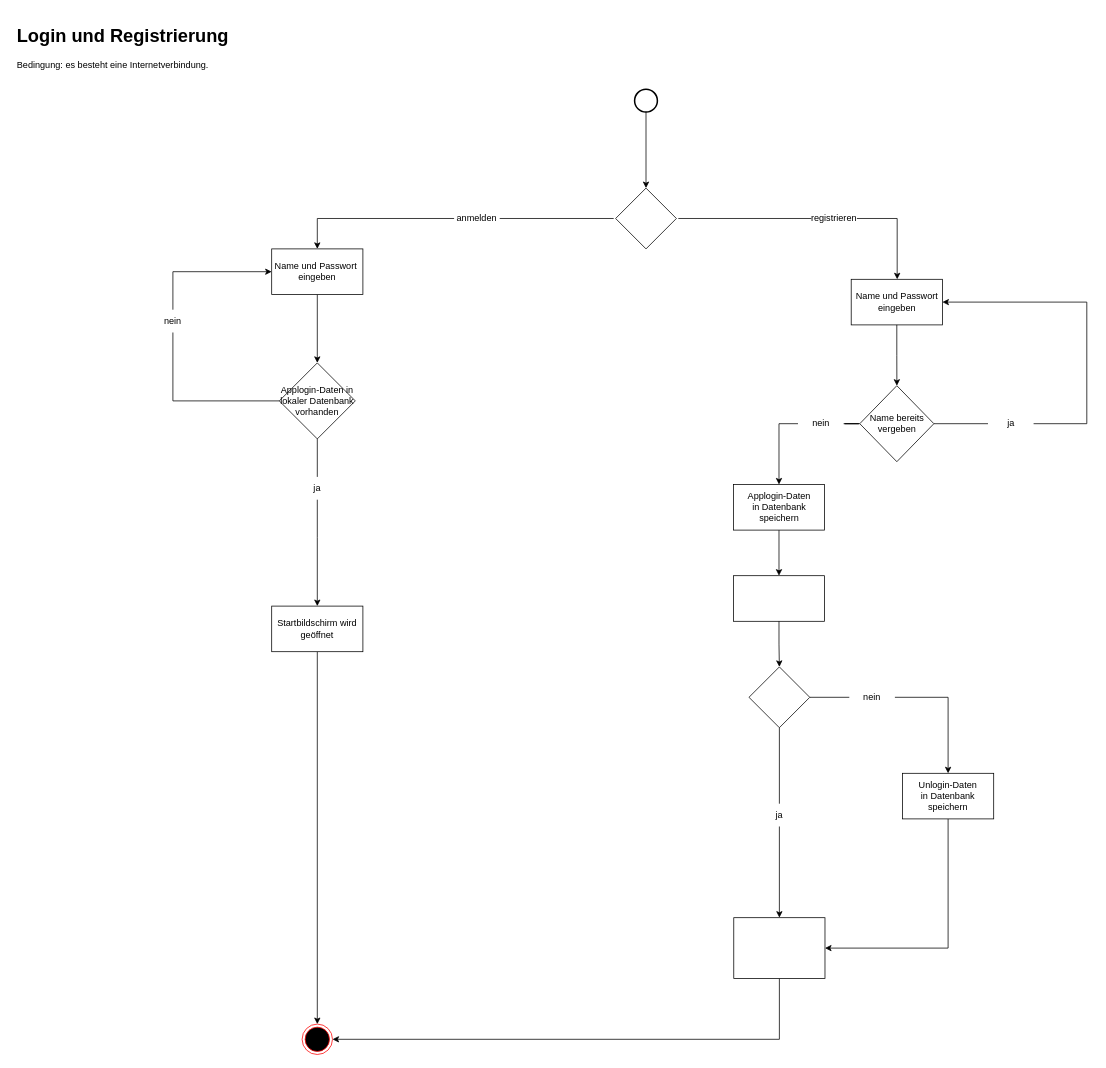
Image size: 1106x1068. Some labels were removed from this diagram. The box of each missing label's shape, as (x1, y1, x2, y2) in pixels:
Nutzer wird aufgefordert, die Unilogin-Daten ein zu geben: (733, 575, 825, 621)
Nutzer überspringt Eingabe: (748, 666, 810, 728)
Registriereno oder anmelden: (615, 187, 676, 249)
Startbildschirm öffnen (angemeldet mit gerade registriertem Account): (733, 917, 825, 978)
